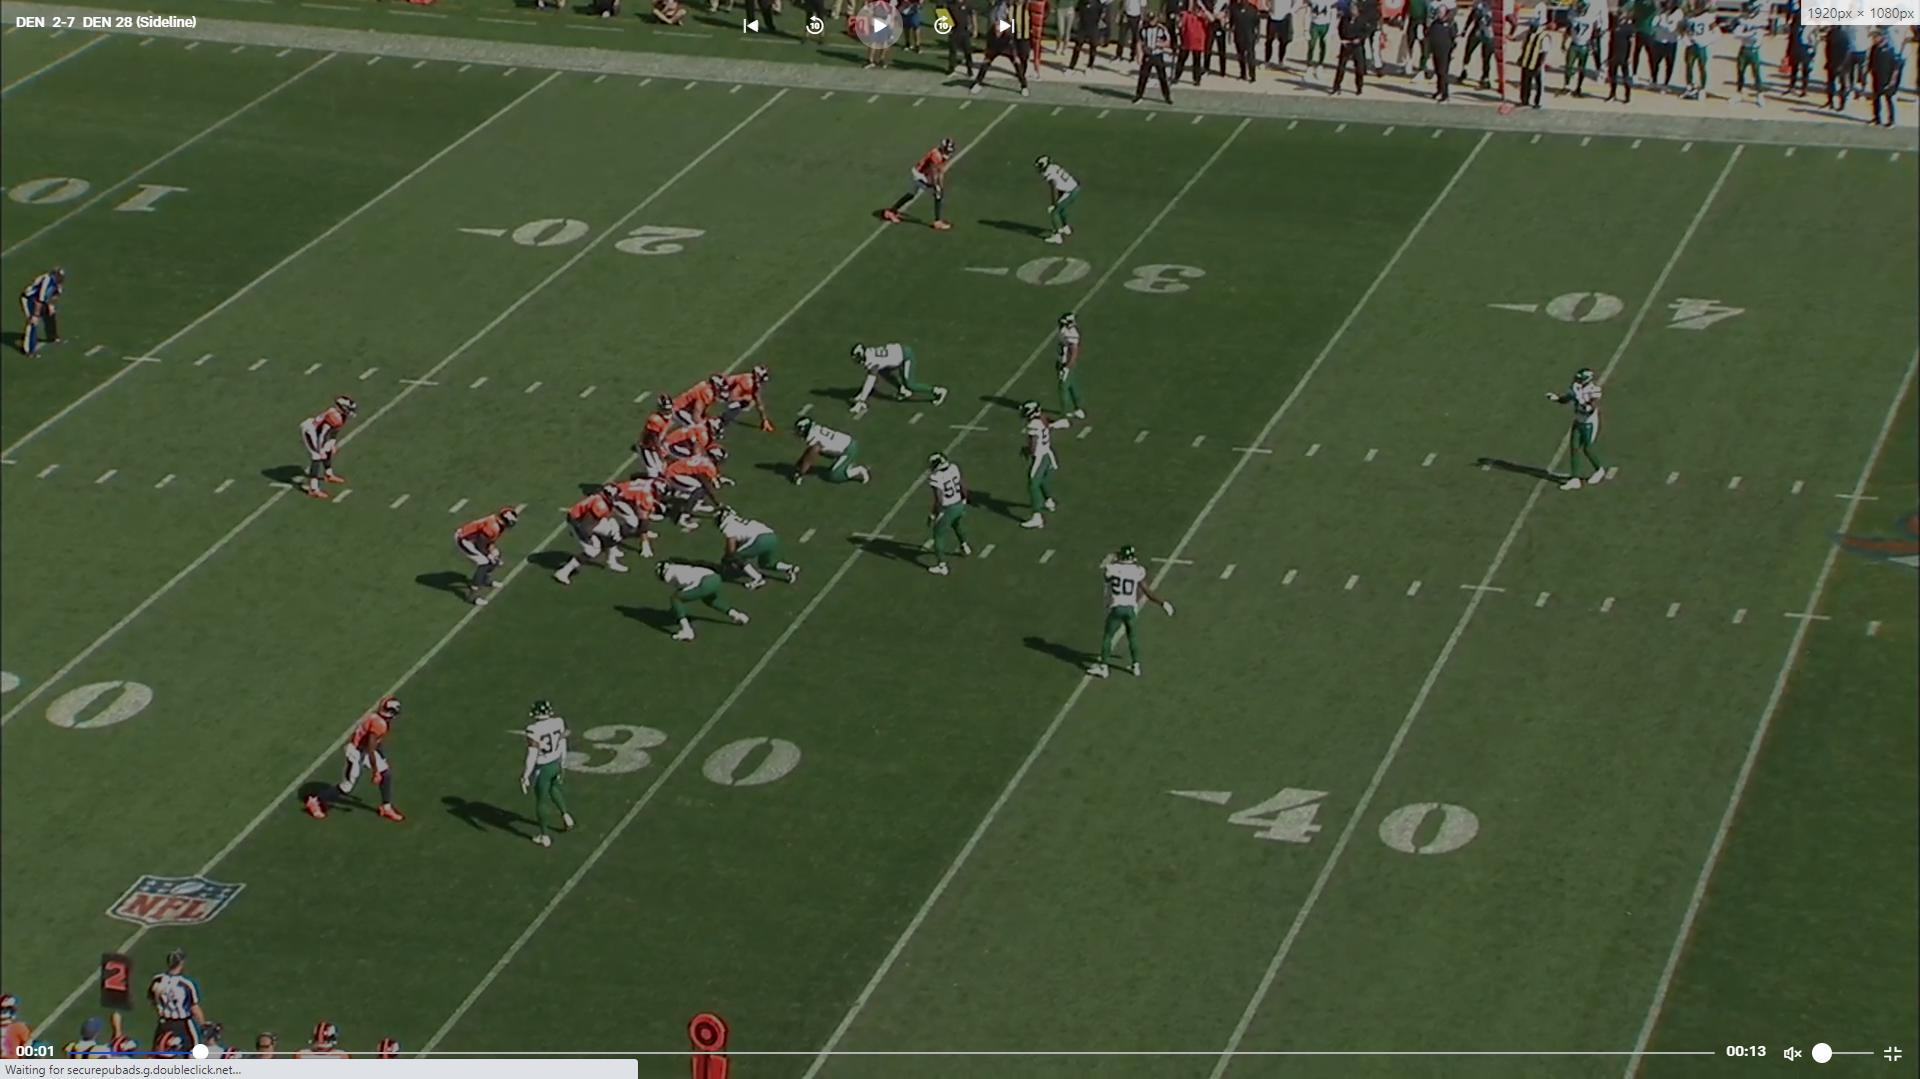defense: (1093, 543, 1162, 691), (520, 695, 579, 851), (658, 559, 758, 648), (845, 338, 947, 414), (707, 512, 795, 595), (1556, 361, 1611, 493), (916, 451, 971, 584), (1021, 398, 1071, 534), (793, 416, 876, 491), (1048, 307, 1092, 431), (1031, 152, 1087, 247)
oline: (553, 479, 630, 588), (661, 450, 727, 534), (609, 471, 670, 555), (669, 375, 731, 427), (658, 414, 724, 463)
qb: (634, 401, 676, 478)
ref: (141, 946, 208, 1058), (968, 0, 1031, 104), (16, 259, 75, 360), (1131, 13, 1182, 111)
skill: (309, 689, 415, 822), (882, 133, 968, 237), (450, 501, 520, 612), (297, 393, 359, 504), (719, 357, 782, 434)
